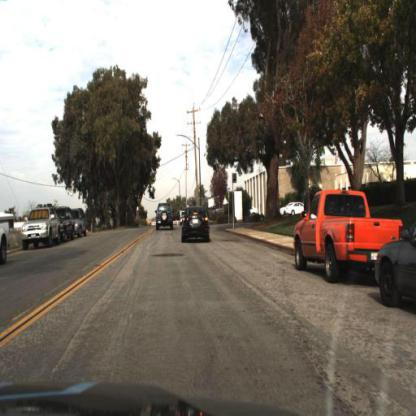car: (291, 181, 379, 296), (374, 214, 416, 314), (18, 199, 65, 255), (176, 204, 215, 249), (181, 205, 212, 245), (155, 199, 179, 237), (70, 204, 93, 239), (59, 203, 75, 248), (56, 204, 74, 243), (283, 196, 311, 220), (1, 219, 12, 274), (246, 202, 261, 223)
